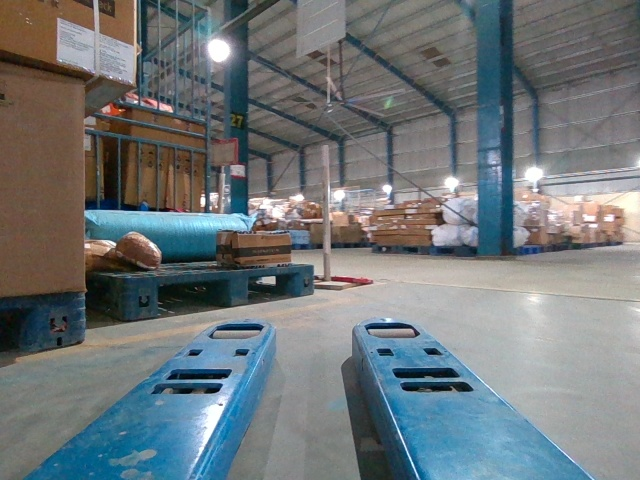block: (124, 276, 162, 319), (225, 270, 251, 307), (290, 263, 313, 294)
front: (129, 264, 314, 321)
hole pallet: (158, 279, 231, 315), (246, 274, 301, 305)
